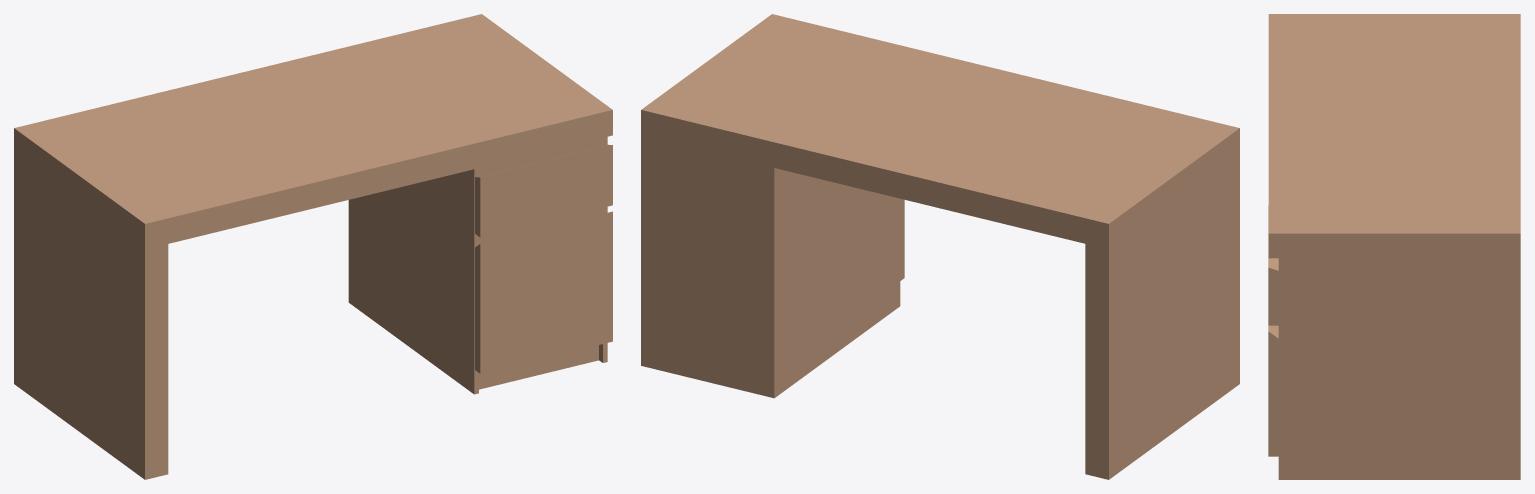
The model's file is Desk.fbx.
3 views of the same model, side by side, from view 1: azimuth 30°, elevation 25°; view 2: azimuth 150°, elevation 25°; view 3: azimuth 270°, elevation 25° (orthographic). The views are drawn at different scales.
Parts seen in each view (by area): view 1: Desk.001, Drawer_Bottom, Drawer_Top; view 2: Desk.001; view 3: Desk.001, Drawer_Bottom, Drawer_Top.
Boxes of the visible parts, x1,y1,x2,y2 form: Desk.001: [14, 14, 612, 479]; Drawer_Bottom: [475, 211, 612, 373]; Drawer_Top: [475, 144, 612, 237]; Desk.001: [641, 14, 1239, 479]; Desk.001: [1268, 14, 1520, 479]; Drawer_Bottom: [1268, 325, 1278, 456]; Drawer_Top: [1268, 205, 1278, 325].
Bounding box in the file's own units: 1.4 × 0.7298 × 0.6769.
